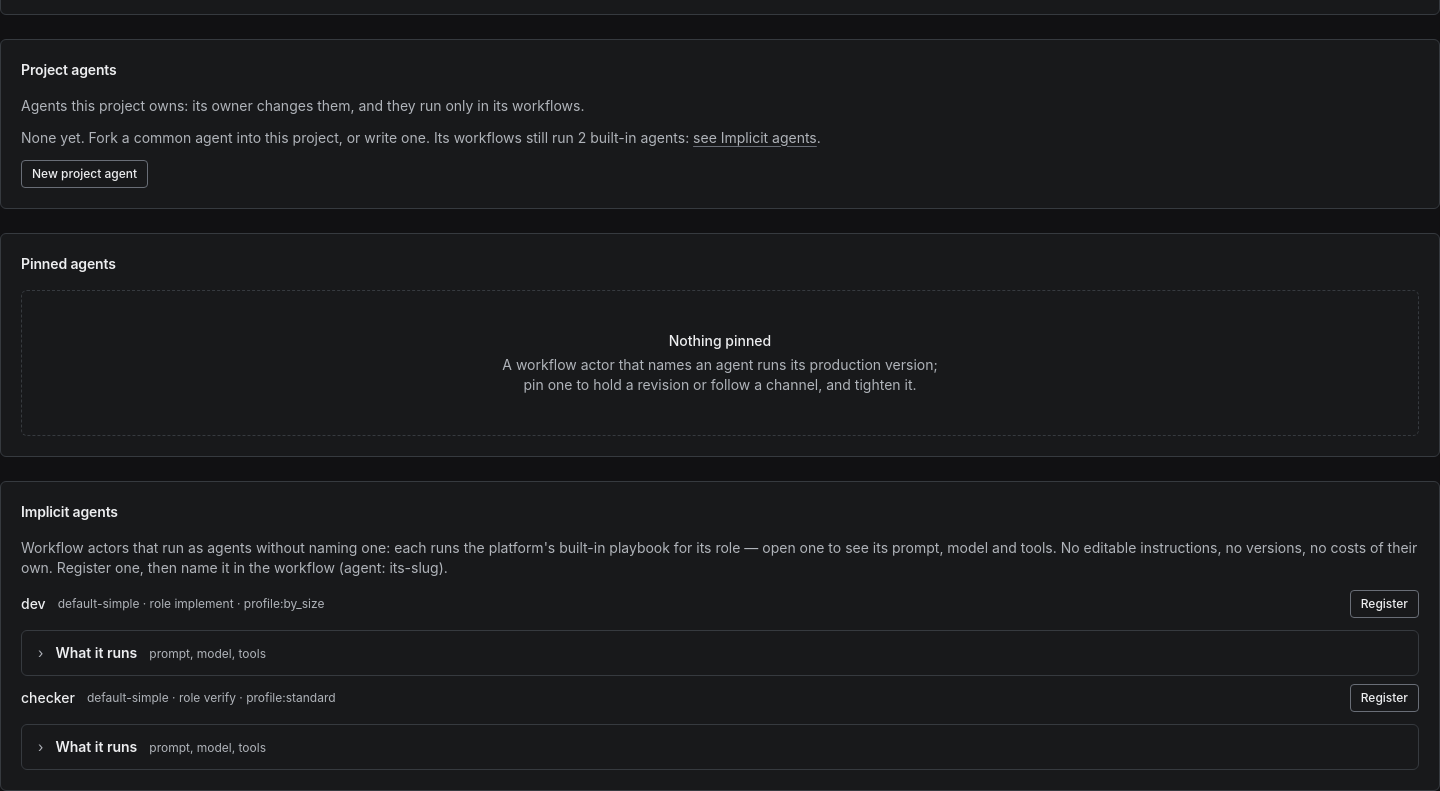
Test case: the project's built-in agents › registers a built-in agent with its playbook as instructions, so there is something to edit
(page scrolled)
What coordinates should you click on to do the following:
click the button "Register" in the row of "· role implement"
I would click on:
 (1384, 604)
Its box is x1=1350 y1=590 x2=1419 y2=618.
(page scrolled)
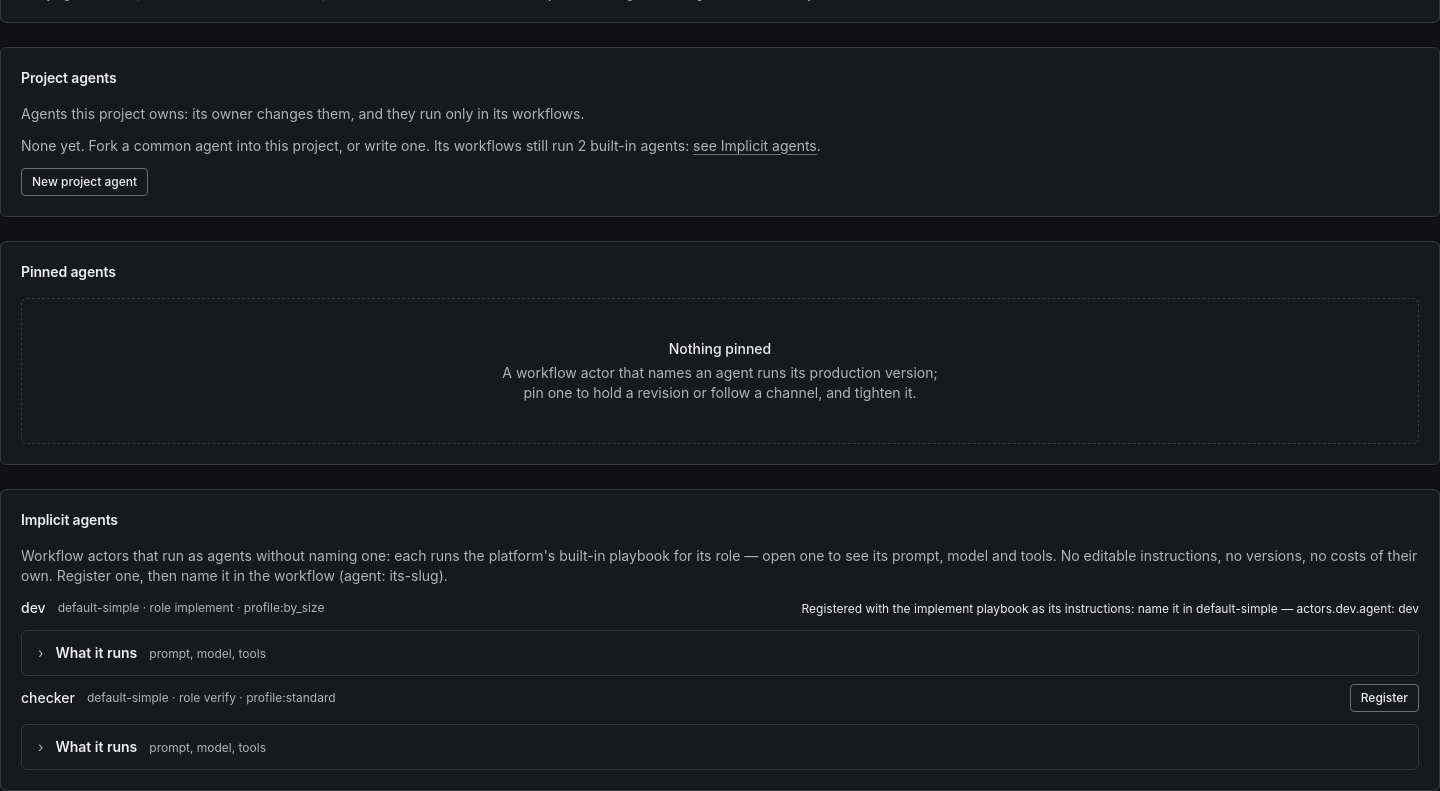
Now the message shows "with the implement playbook as its instructions", box x1=802 y1=600 x2=1419 y2=616
